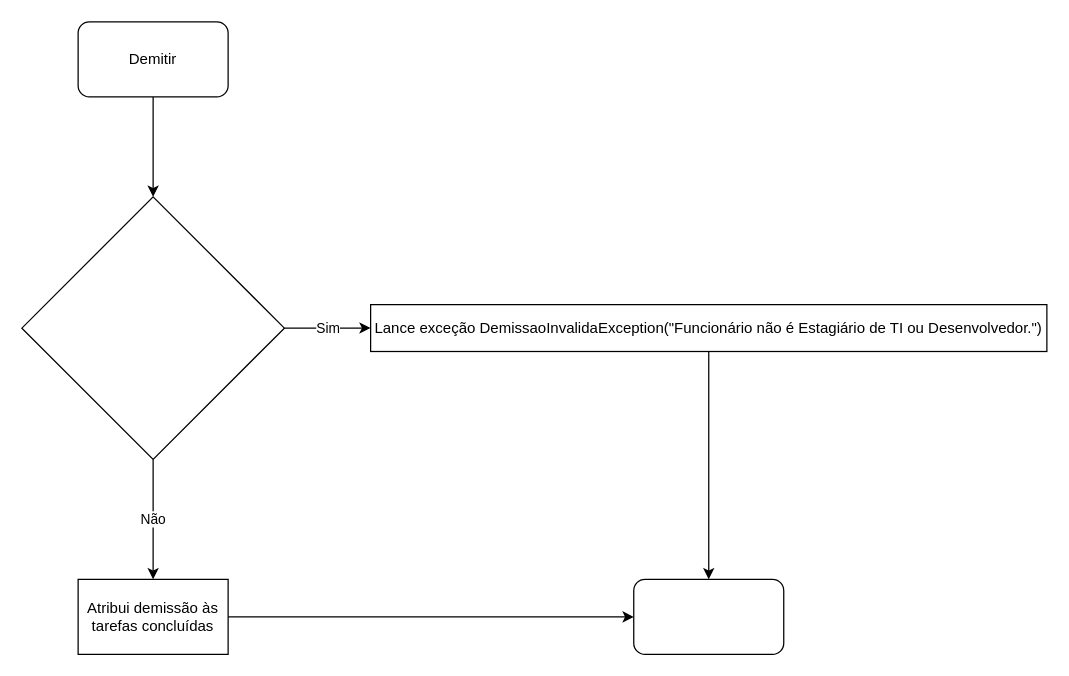
Some shapes in this 1069 by 676 pixel diagram are drawn without their labels. Here are the shapes that lost their labels. From the top down, the box of each, then its label:
(21, 196, 284, 459): Nível do Funcionário é diferente de Junior ou Pleno?
(632, 578, 784, 654): Fim
